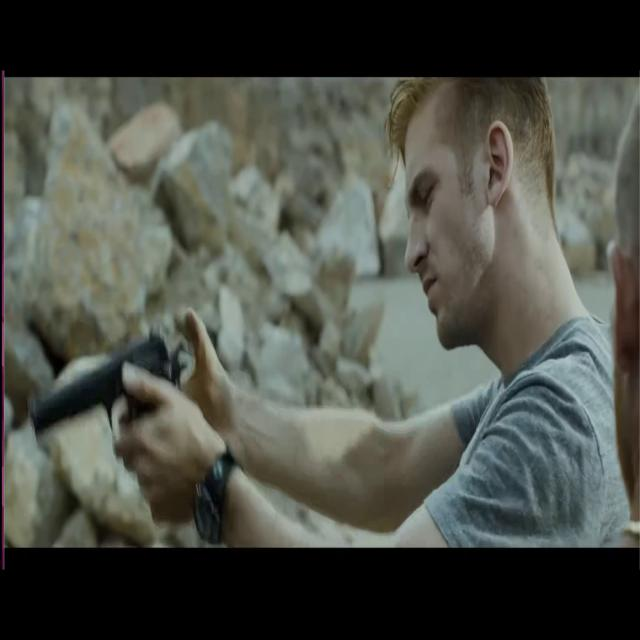weapons: (24, 316, 208, 472)
